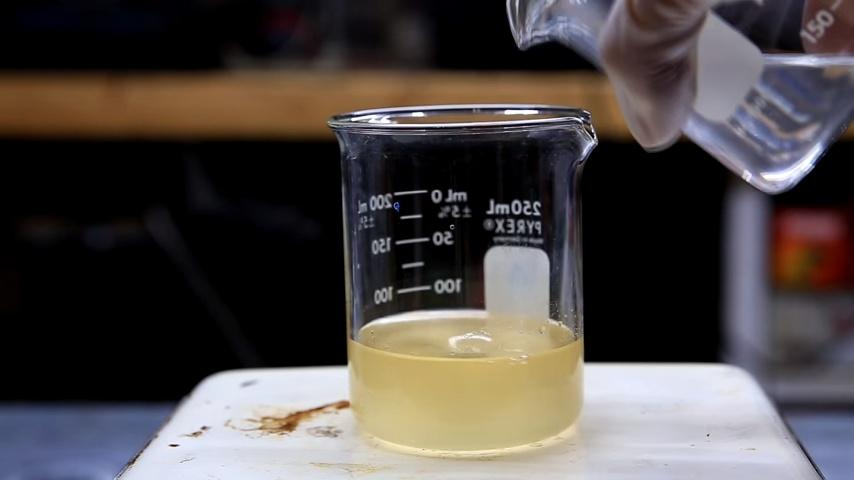Beaker: (306, 93, 600, 456)
